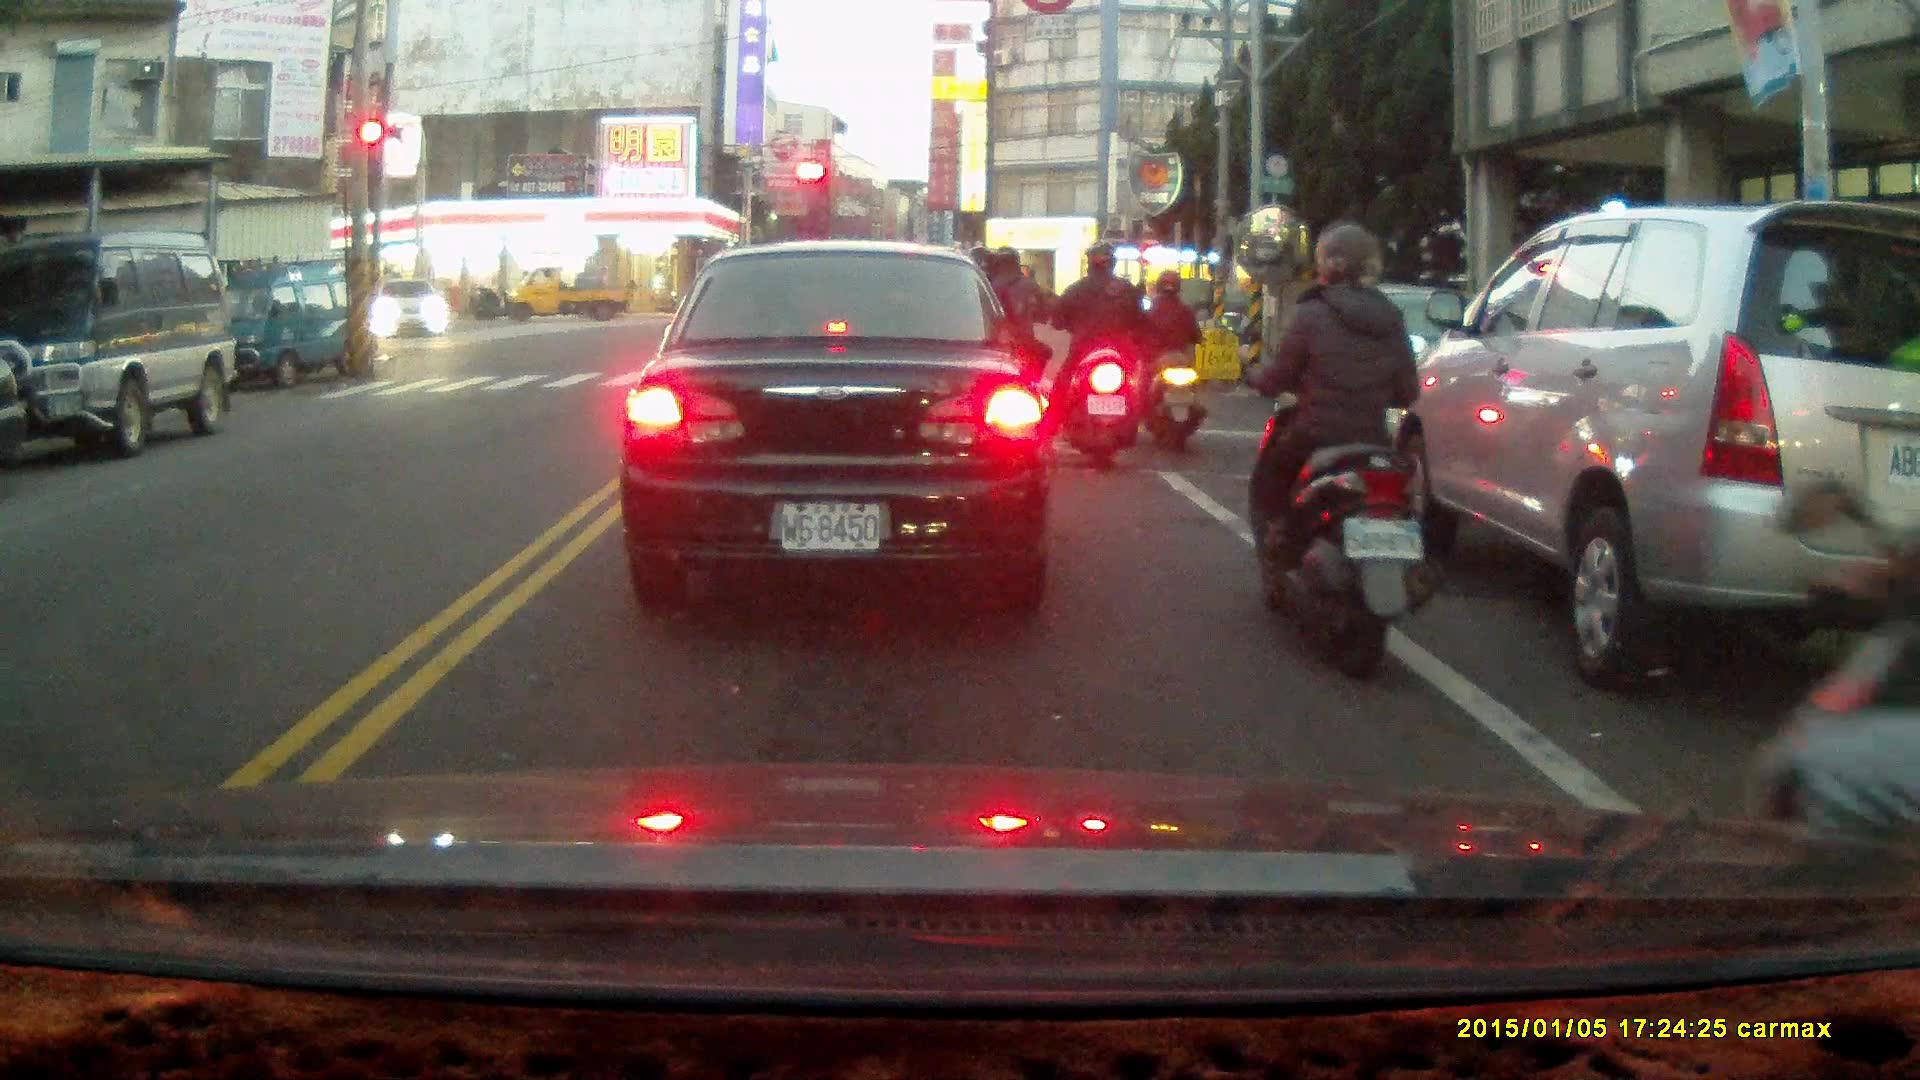rider: (1219, 216, 1445, 684), (1735, 468, 1920, 913), (1048, 243, 1141, 469), (962, 243, 1051, 445), (1134, 269, 1204, 450)
vehicle: (1380, 195, 1920, 685), (617, 243, 1061, 606), (1, 234, 239, 458), (194, 255, 381, 394), (501, 264, 638, 326), (372, 277, 451, 343)
